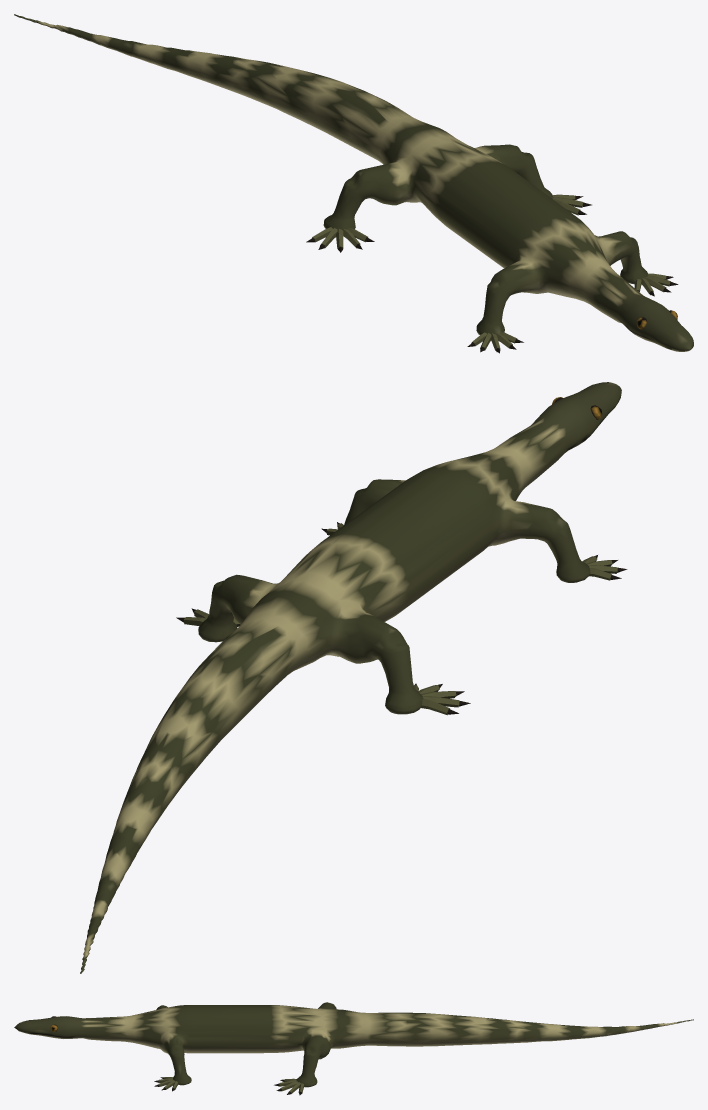
Rendered from SaniwaEnsidens.fbx.
The picture shows the model from 3 angles, top to bottom: view 1: azimuth 30°, elevation 25°; view 2: azimuth 150°, elevation 25°; view 3: azimuth 270°, elevation 25°; orthographic projection. The views are drawn at different scales.
Parts seen in each view (by area): view 1: SaniwaEnsidens; view 2: SaniwaEnsidens; view 3: SaniwaEnsidens.
Part boxes in pixels (left/top/right/bottom): SaniwaEnsidens: left=14, top=14, right=693, bottom=353; SaniwaEnsidens: left=80, top=382, right=627, bottom=973; SaniwaEnsidens: left=14, top=1002, right=693, bottom=1095.
Bounding box in the file's own units: 0.3594 × 0.1139 × 1.36.
